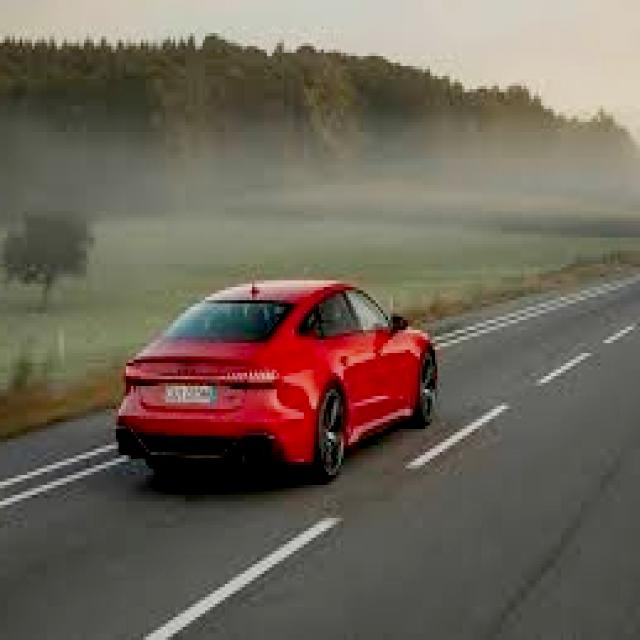red: (117, 279, 437, 486)
